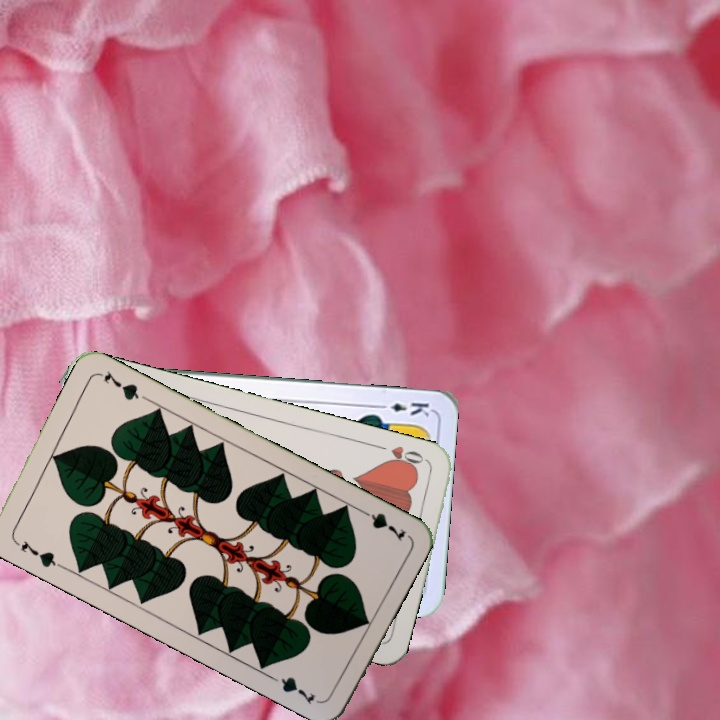EK: (373, 398, 432, 420)
G7: (354, 504, 409, 544), (10, 536, 64, 571)
HO: (373, 441, 431, 473)
